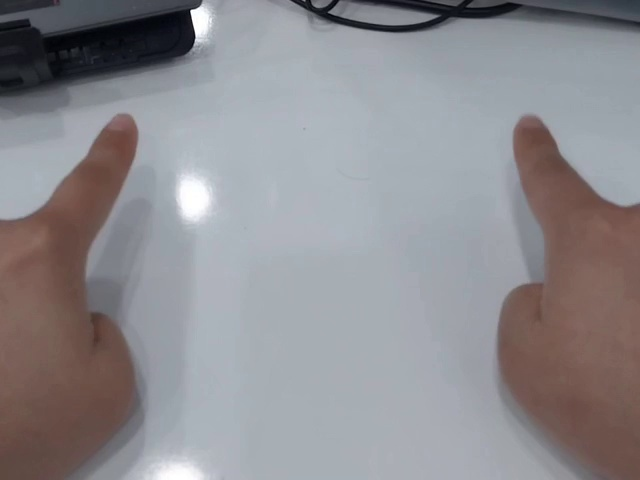fingers: (99, 111, 139, 164), (512, 113, 556, 158)
